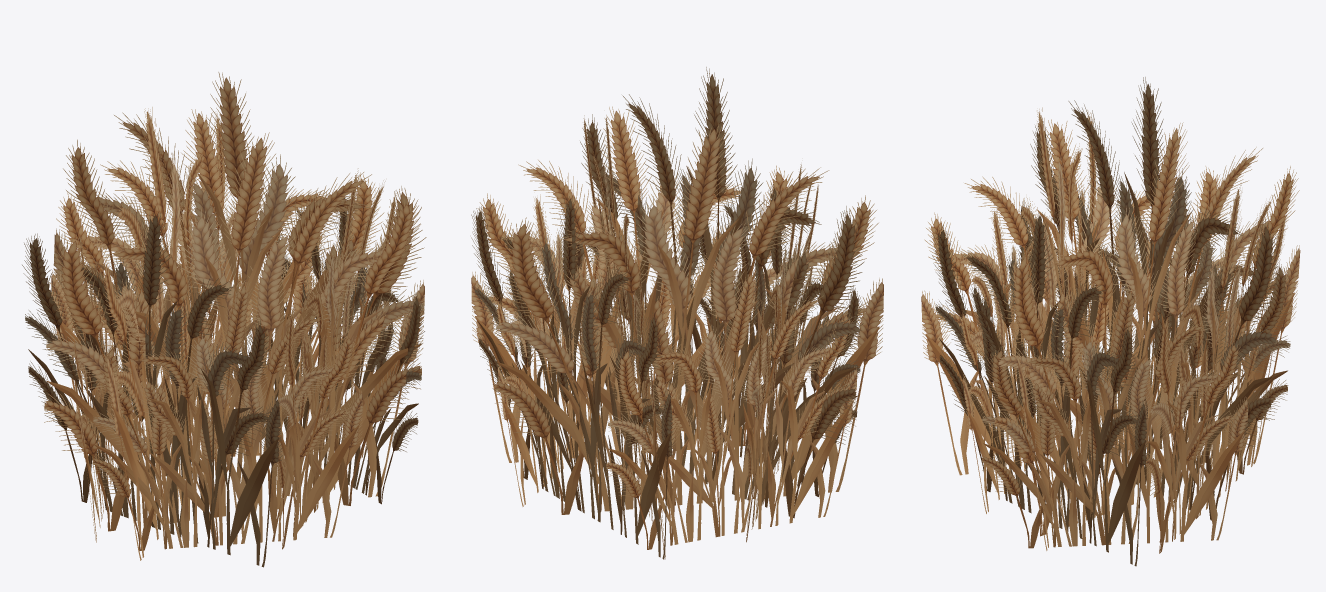
File: SM_Wheat.fbx
3 views of the same model, side by side, from view 1: azimuth 30°, elevation 25°; view 2: azimuth 150°, elevation 25°; view 3: azimuth 270°, elevation 25° (orthographic). The views are drawn at different scales.
Parts seen in each view (by area): view 1: SM_Wheat; view 2: SM_Wheat; view 3: SM_Wheat.
Boxes of the visible parts, left/top/right/bottom form: SM_Wheat: left=22, top=72, right=426, bottom=567; SM_Wheat: left=471, top=67, right=883, bottom=559; SM_Wheat: left=921, top=77, right=1300, bottom=566.
Size of the model in its own units: 121 by 122 by 111.
